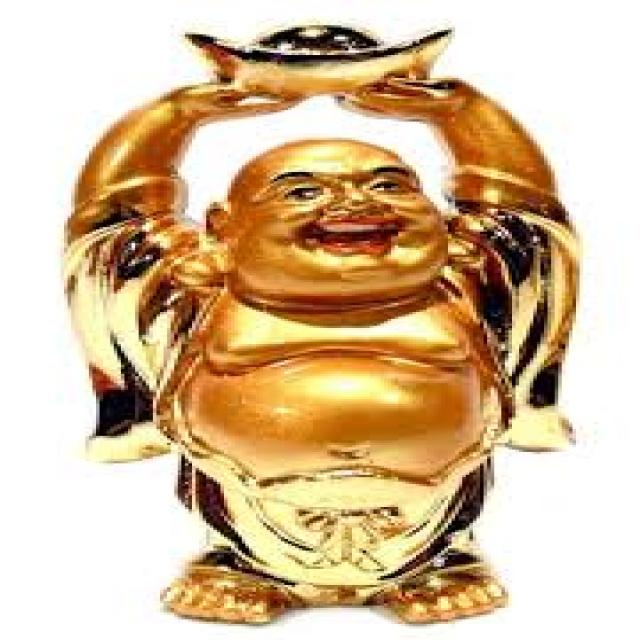Smiling Buddha: (98, 127, 520, 516)
